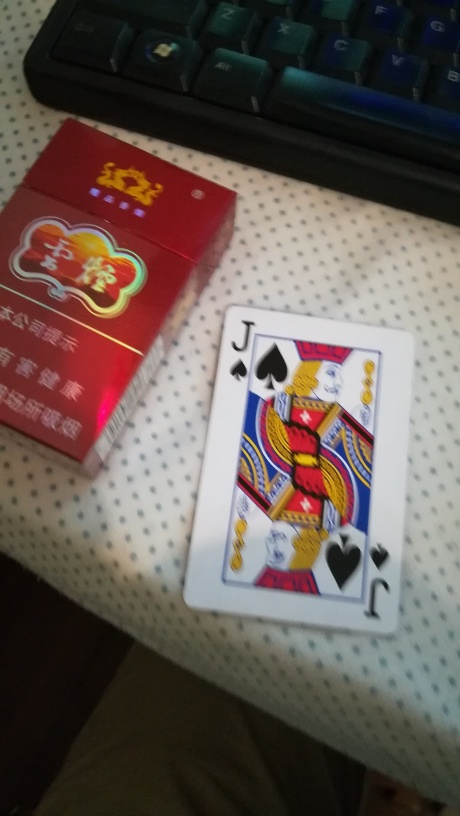ht j: (183, 302, 417, 641)
